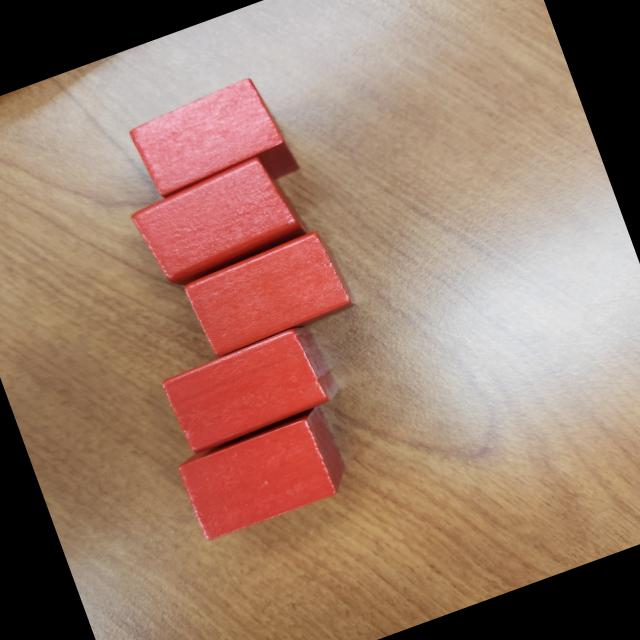red: (128, 148, 312, 294), (173, 403, 357, 544), (126, 72, 300, 218), (158, 321, 338, 457), (182, 227, 356, 361)
